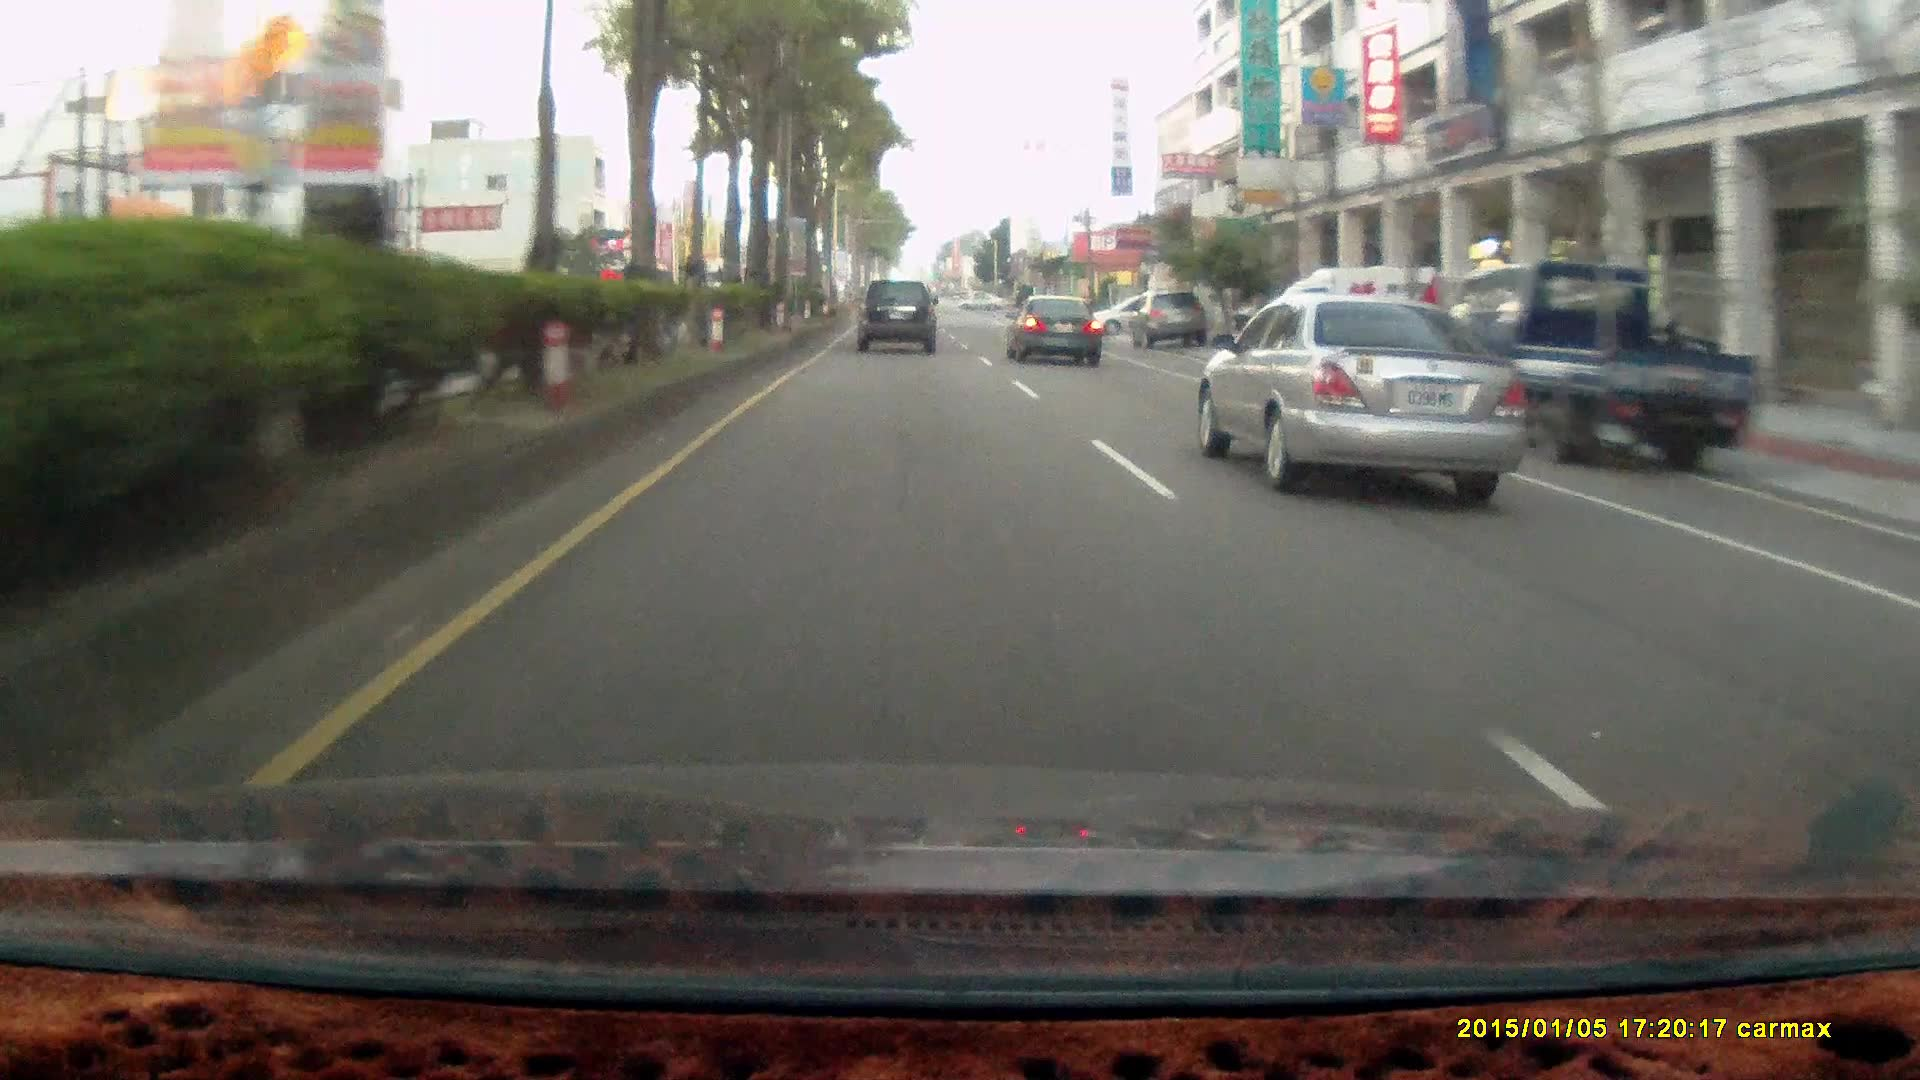vehicle: (1435, 260, 1764, 464), (1203, 289, 1530, 495), (1457, 261, 1749, 465), (1269, 262, 1447, 382), (1004, 295, 1106, 371), (1005, 293, 1100, 365), (856, 284, 943, 361), (855, 280, 935, 353), (1134, 290, 1211, 351)
